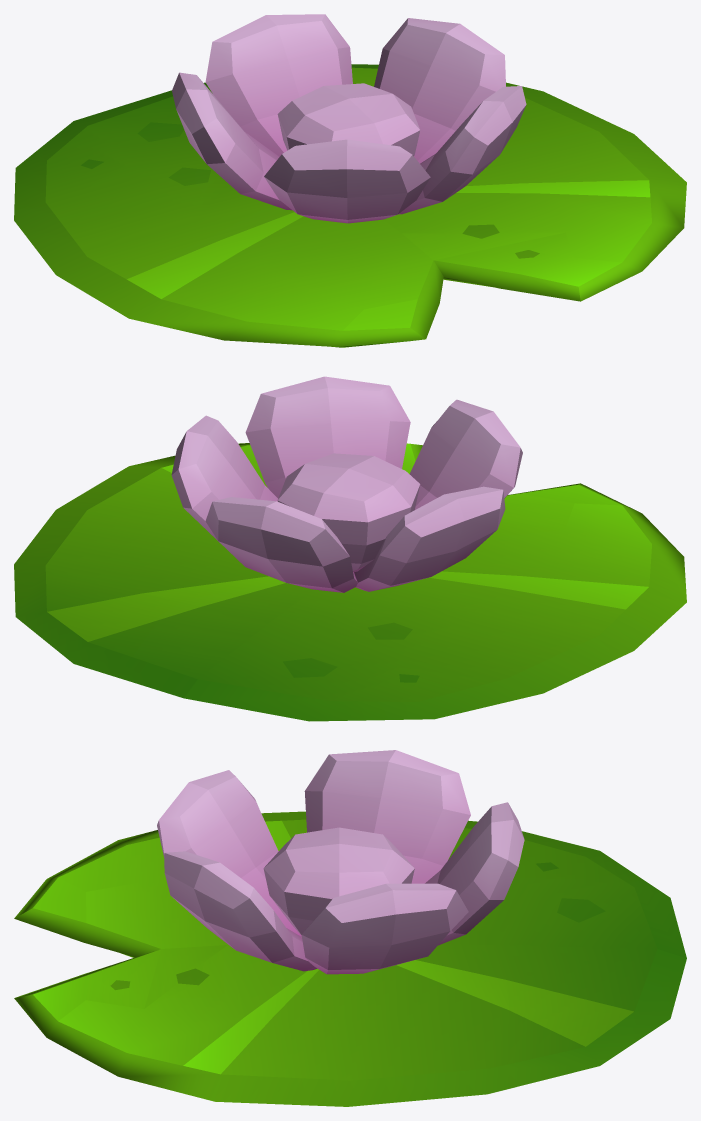
The model's file is waterlily_pink1.glb.
3 views of the same model, one above another, from view 1: azimuth 30°, elevation 25°; view 2: azimuth 150°, elevation 25°; view 3: azimuth 270°, elevation 25° (orthographic). The views are drawn at different scales.
Visible parts, largest first — view 1: waterlily_pink1; view 2: waterlily_pink1; view 3: waterlily_pink1.
Boxes of the visible parts, x1,y1,x2,y2 form: waterlily_pink1: [14, 14, 686, 347]; waterlily_pink1: [14, 376, 686, 721]; waterlily_pink1: [14, 750, 686, 1106].
Size of the model in its own units: 0.9773 by 0.2342 by 0.9355.
Materials: 1 (1 with a texture image).
